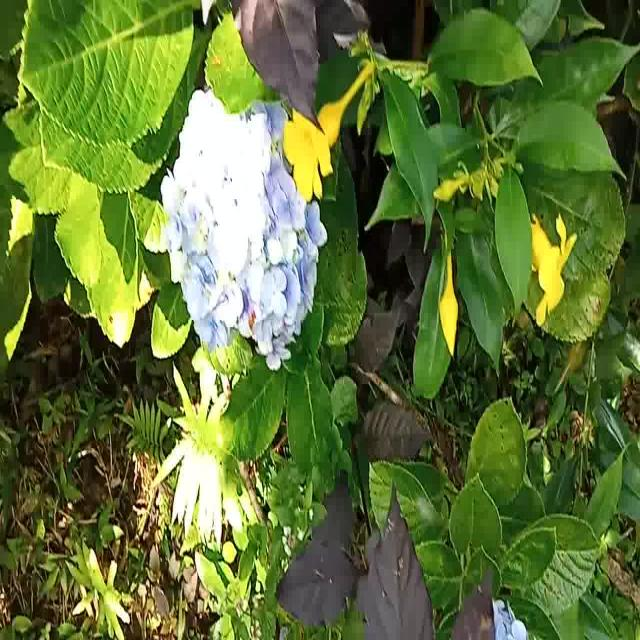Flower: (163, 92, 317, 366)
